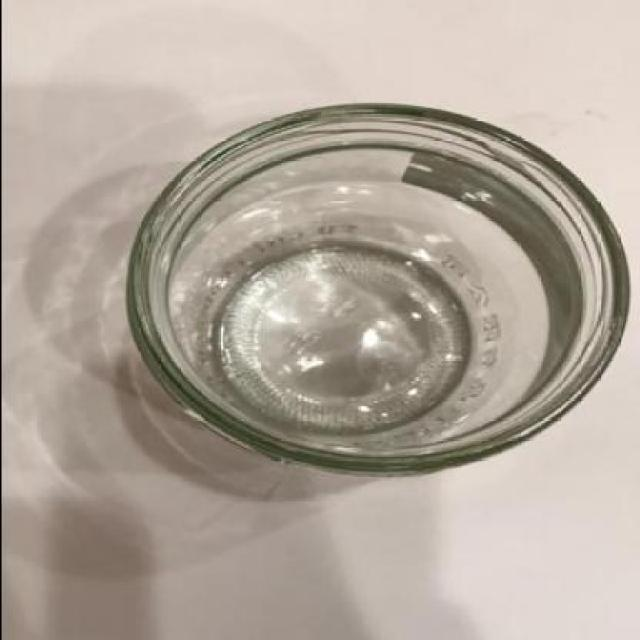glass: (128, 101, 632, 477)
